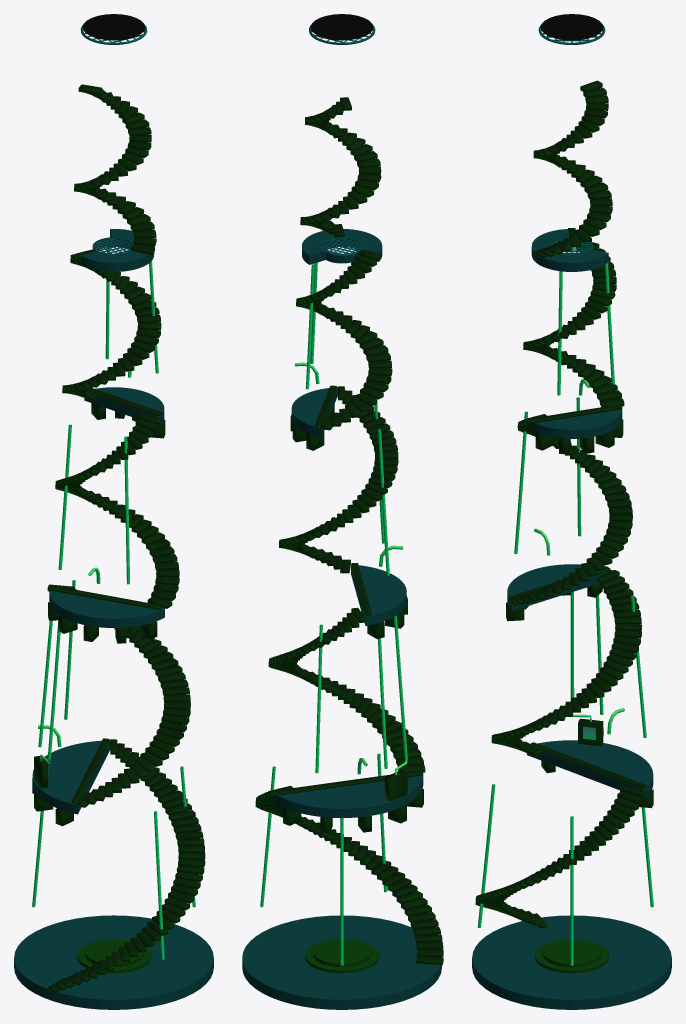
The model's file is coilspire_tiers.glb.
The picture shows the model from 3 angles, left to right: view 1: azimuth 30°, elevation 25°; view 2: azimuth 150°, elevation 25°; view 3: azimuth 270°, elevation 25°; orthographic projection.
Visible parts, largest first — view 1: coilspire_tiers; view 2: coilspire_tiers; view 3: coilspire_tiers.
Part boxes in pixels (x1,y1,x2,y2): coilspire_tiers: [14, 14, 213, 1009]; coilspire_tiers: [242, 14, 443, 1009]; coilspire_tiers: [472, 14, 671, 1009].
Size of what is drawn, in the model's own units: 8.9 by 46.25 by 8.9.
